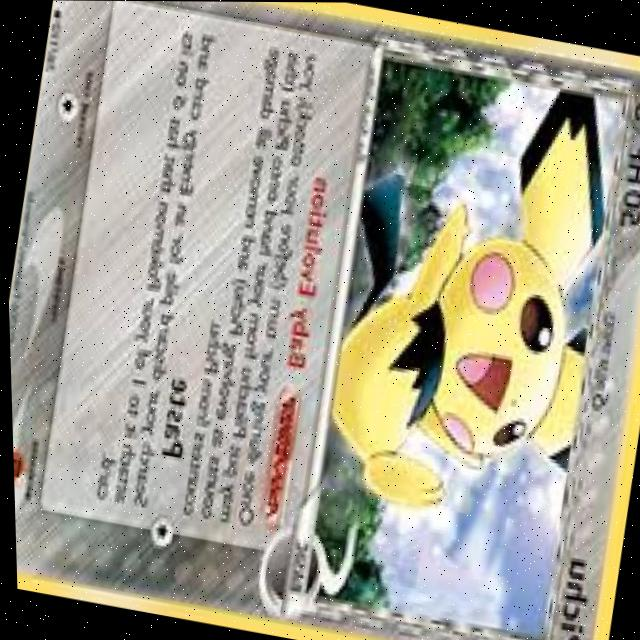pichu: (311, 76, 635, 553)
